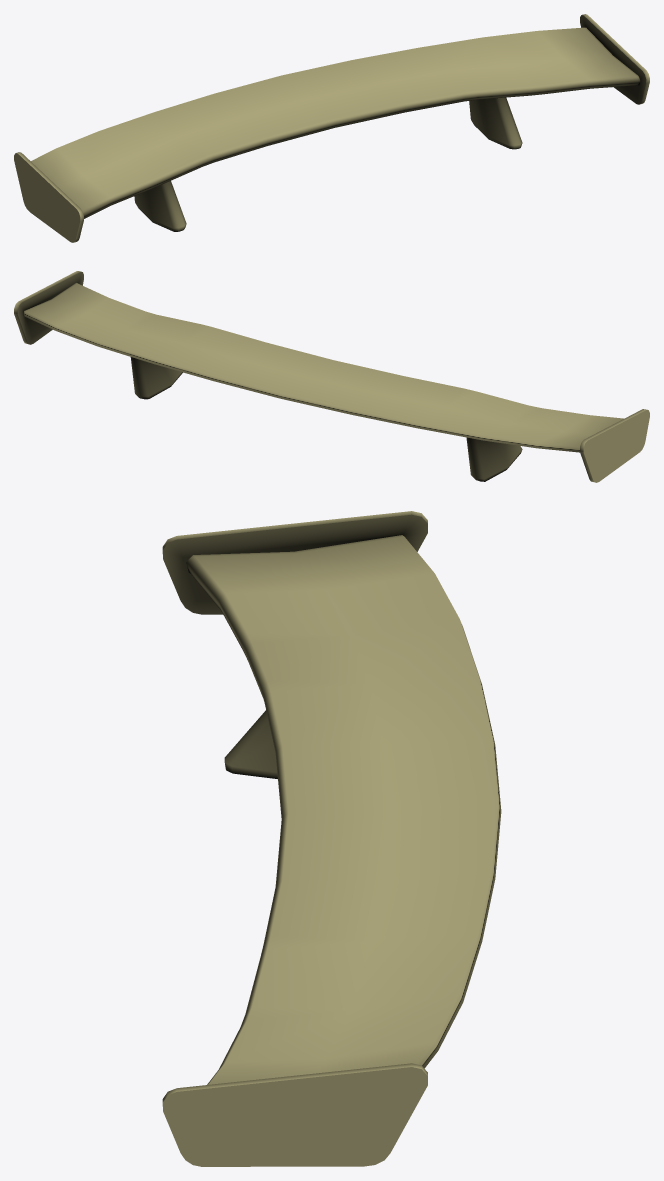
File: Viper_Spoiler_02_Duco.fbx
3 views of the same model, one above another, from view 1: azimuth 30°, elevation 25°; view 2: azimuth 150°, elevation 25°; view 3: azimuth 270°, elevation 25° (orthographic). The views are drawn at different scales.
Parts seen in each view (by area): view 1: Viper_Spoiler_02_Duco; view 2: Viper_Spoiler_02_Duco; view 3: Viper_Spoiler_02_Duco.
Boxes of the visible parts, left/top/right/bottom form: Viper_Spoiler_02_Duco: left=14, top=14, right=649, bottom=242; Viper_Spoiler_02_Duco: left=14, top=271, right=649, bottom=482; Viper_Spoiler_02_Duco: left=162, top=511, right=501, bottom=1166.
Size of the model in its own units: 151 by 19.12 by 38.94.
